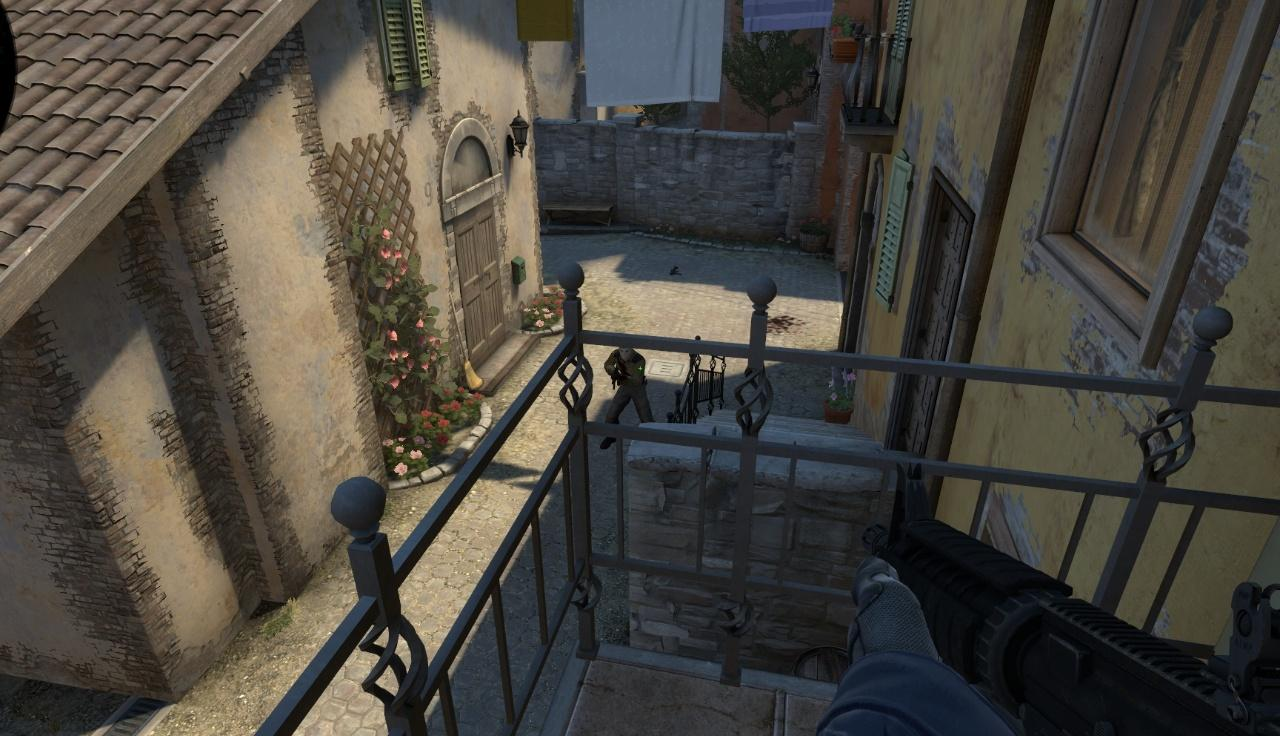rifle: (841, 476, 1280, 736)
tt: (605, 345, 651, 428)
tthead: (617, 345, 633, 361)
